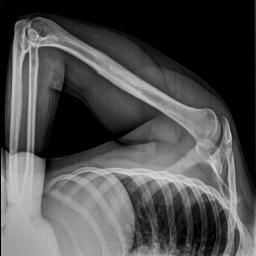cancer: (55, 43, 158, 108)
